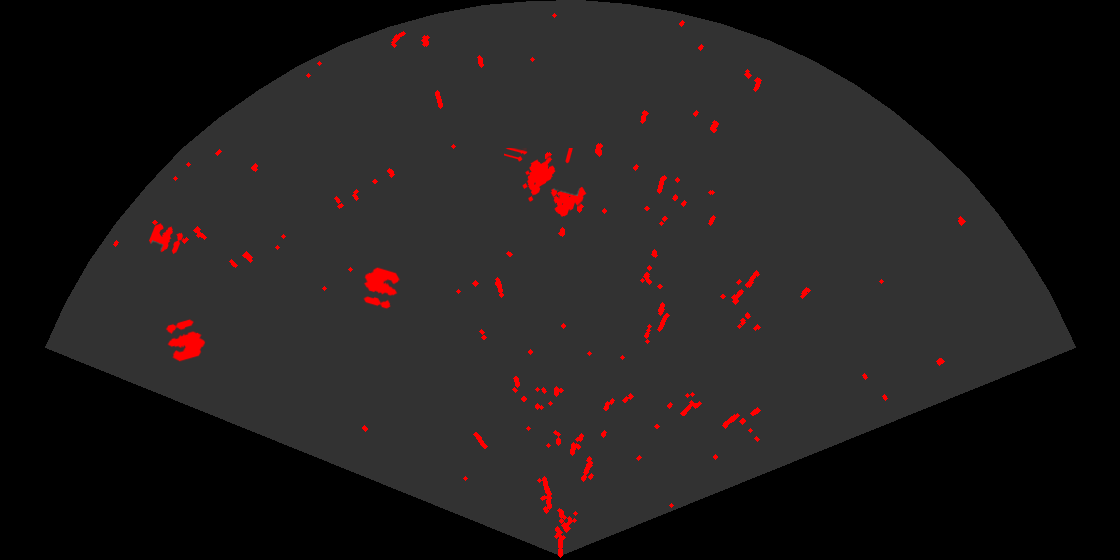ball: (164, 317, 207, 363), (362, 266, 402, 311), (147, 222, 185, 256)
cage: (504, 148, 588, 218)
